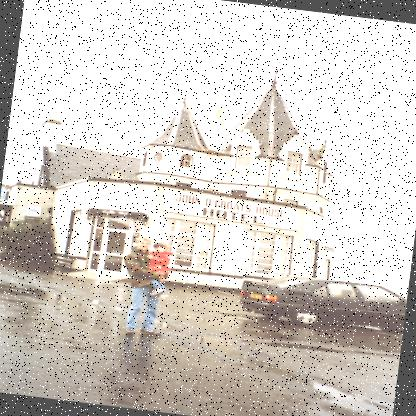Car: (237, 268, 407, 340)
